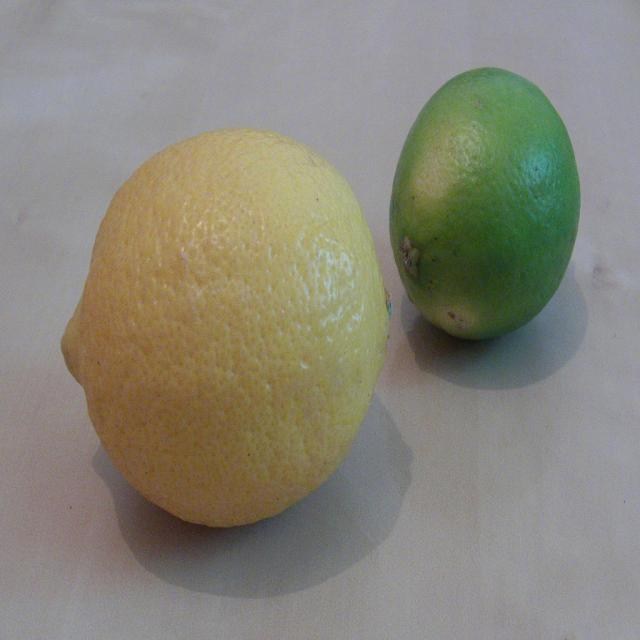Lemon: (59, 132, 393, 530), (388, 63, 583, 342)
